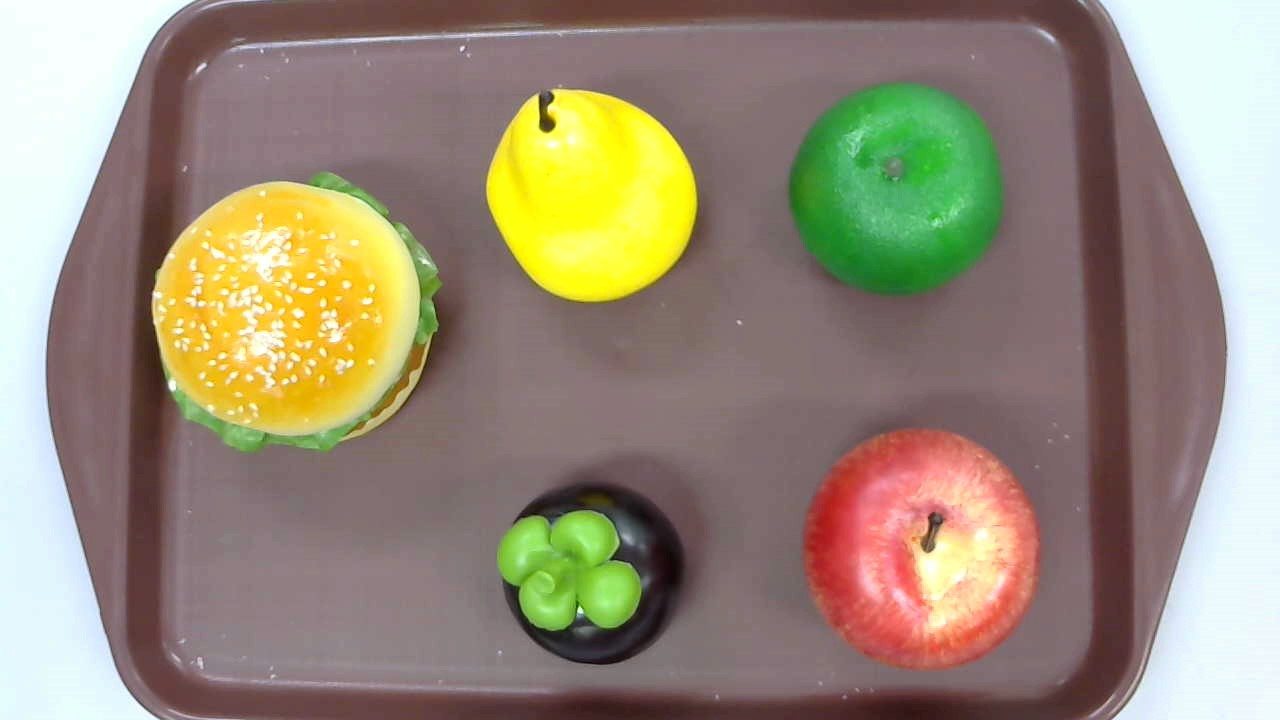green orange: (788, 82, 1003, 295)
hamburger: (150, 171, 441, 452)
mangosteen: (497, 482, 686, 666)
red apple: (802, 428, 1041, 672)
yellow pear: (486, 88, 699, 303)
